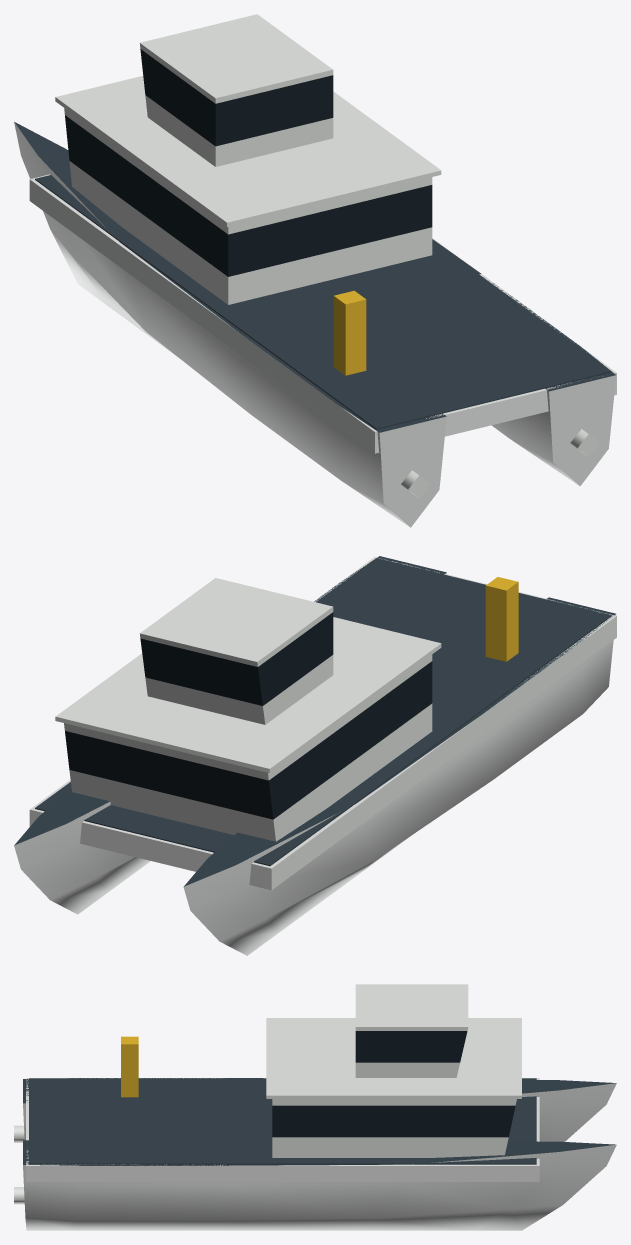
File: crew_boat_LOD2.glb
The picture shows the model from 3 angles, top to bottom: view 1: azimuth 30°, elevation 25°; view 2: azimuth 150°, elevation 25°; view 3: azimuth 270°, elevation 25°; orthographic projection. The views are drawn at different scales.
Visible parts, largest first — view 1: Superstructure, Deck, Hull, Windows, Crane; view 2: Superstructure, Hull, Deck, Windows, Crane; view 3: Hull, Superstructure, Deck, Windows, Crane.
Boxes of the visible parts, box(x1,y1,x2,y2) form: Superstructure: box(55, 14, 599, 498); Deck: box(14, 122, 615, 432); Hull: box(14, 122, 616, 527); Windows: box(65, 49, 432, 276); Crane: box(333, 290, 366, 375); Superstructure: box(55, 578, 441, 841); Hull: box(14, 557, 616, 955); Deck: box(14, 556, 615, 886); Windows: box(65, 612, 432, 819); Crane: box(485, 577, 518, 661); Hull: box(23, 1078, 616, 1230); Superstructure: box(14, 984, 521, 1204); Deck: box(23, 1078, 615, 1165); Windows: box(272, 1031, 515, 1137); Crane: box(121, 1036, 138, 1097).
Size of the model in its own units: 7 by 7.22 by 20.3.
